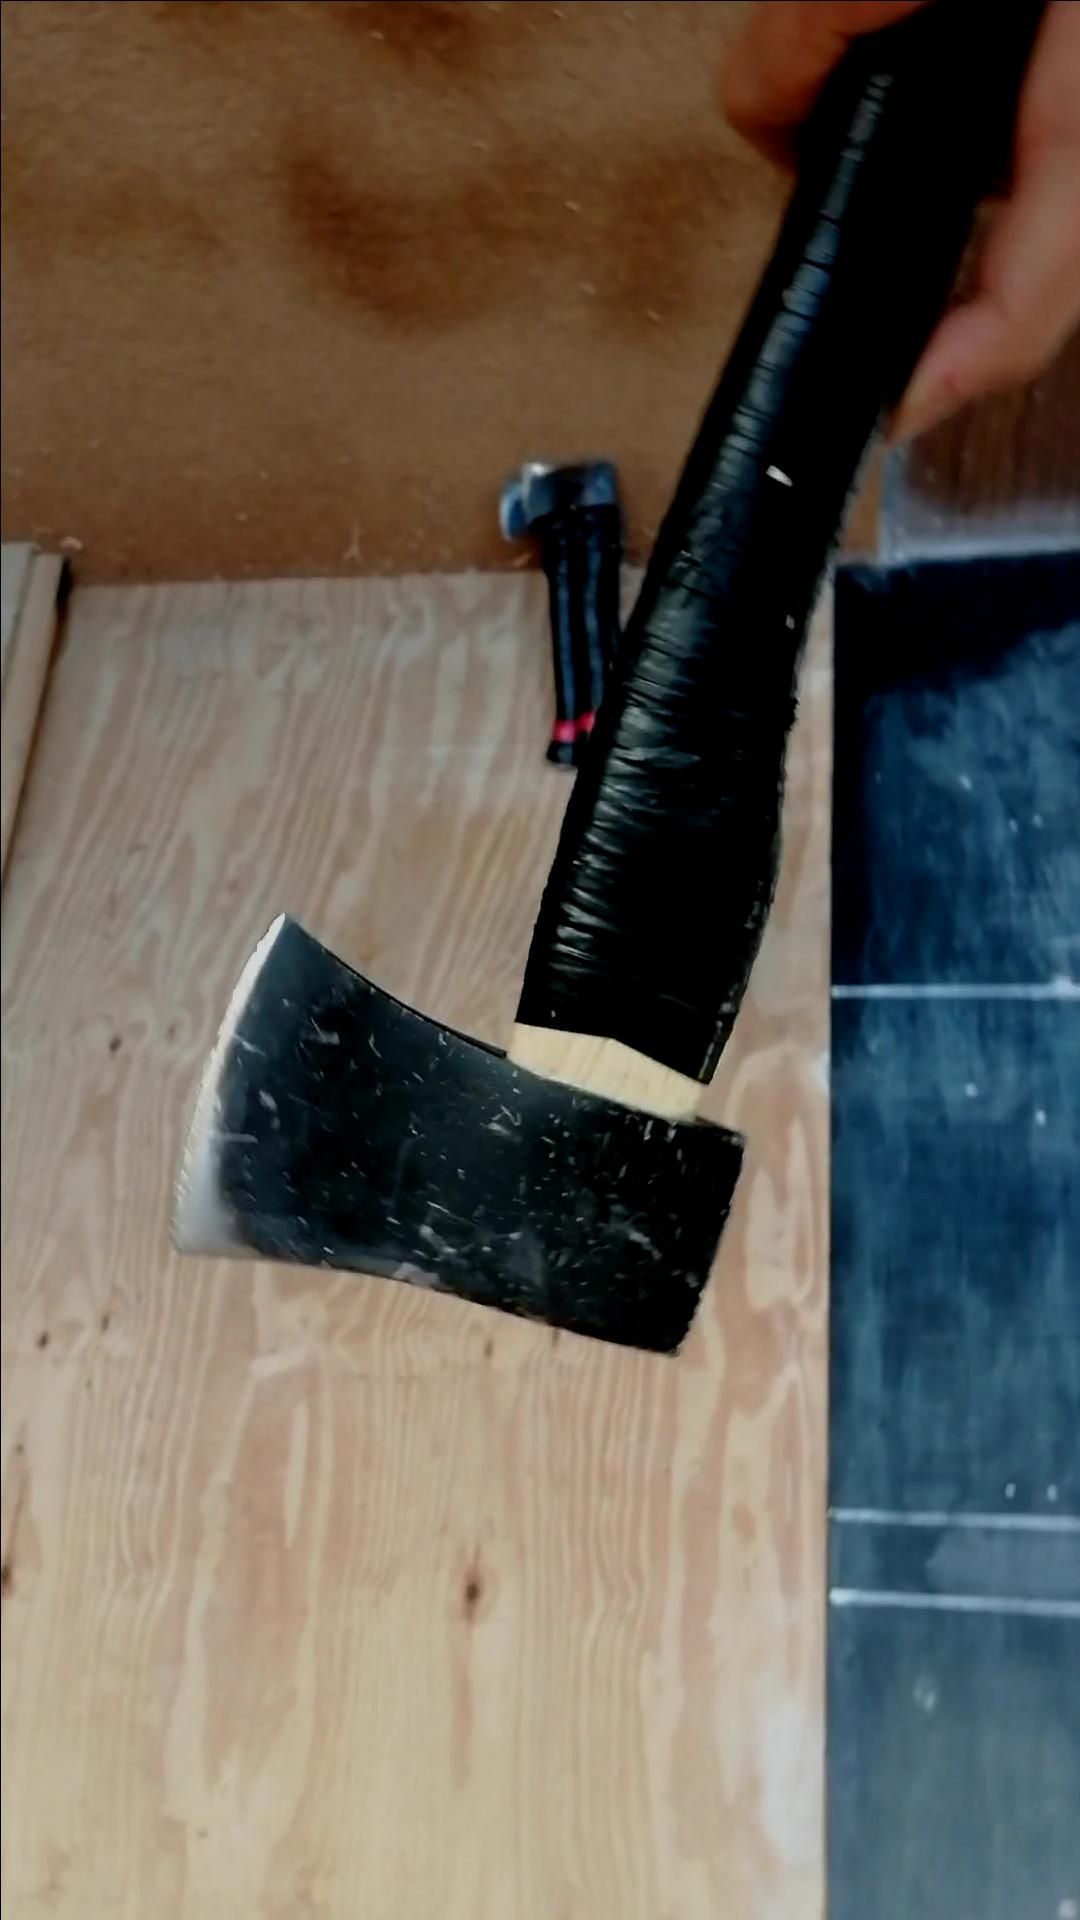Hand Axe: (163, 905, 747, 1365)
